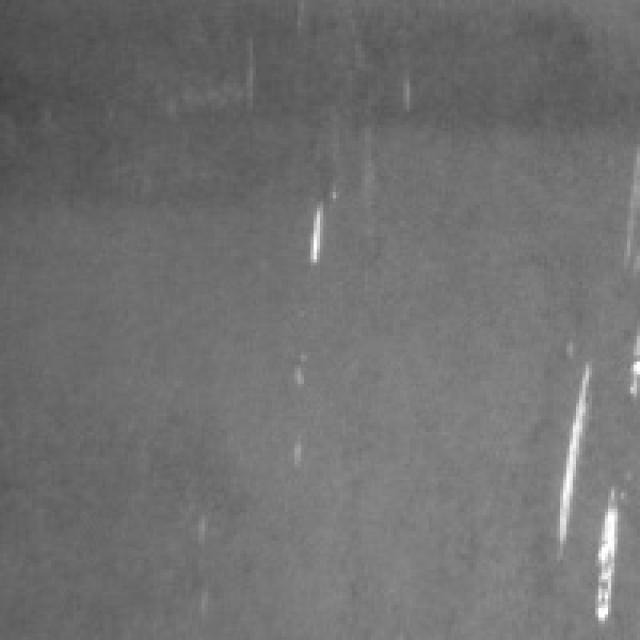scratches: (550, 349, 628, 627), (297, 179, 348, 272)
